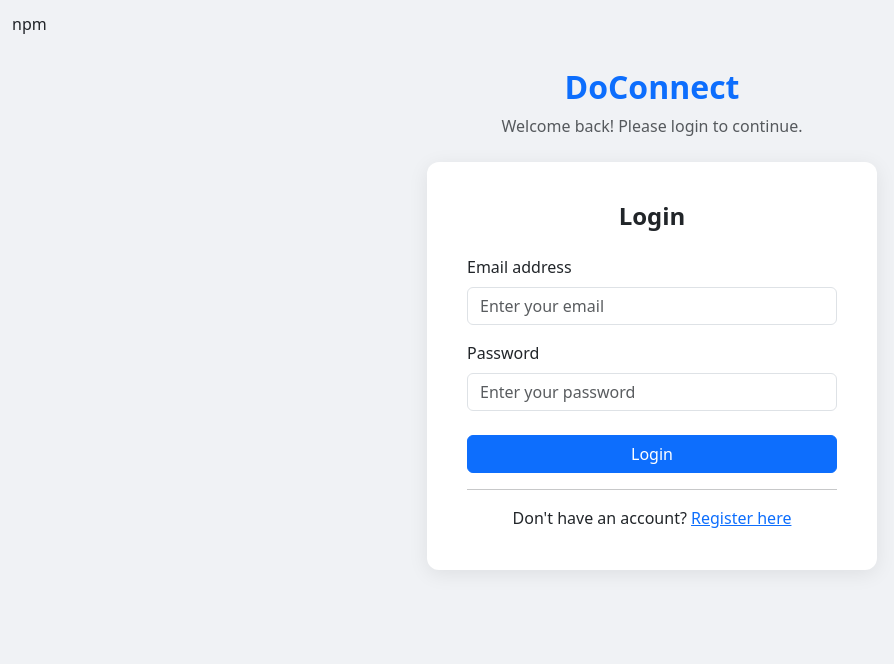
Test: Login Page › shows error for short password
The image size is (894, 664).
In the field with placeholder "Enter your email": (652, 306) [467, 287, 837, 325], type "test@test.com"
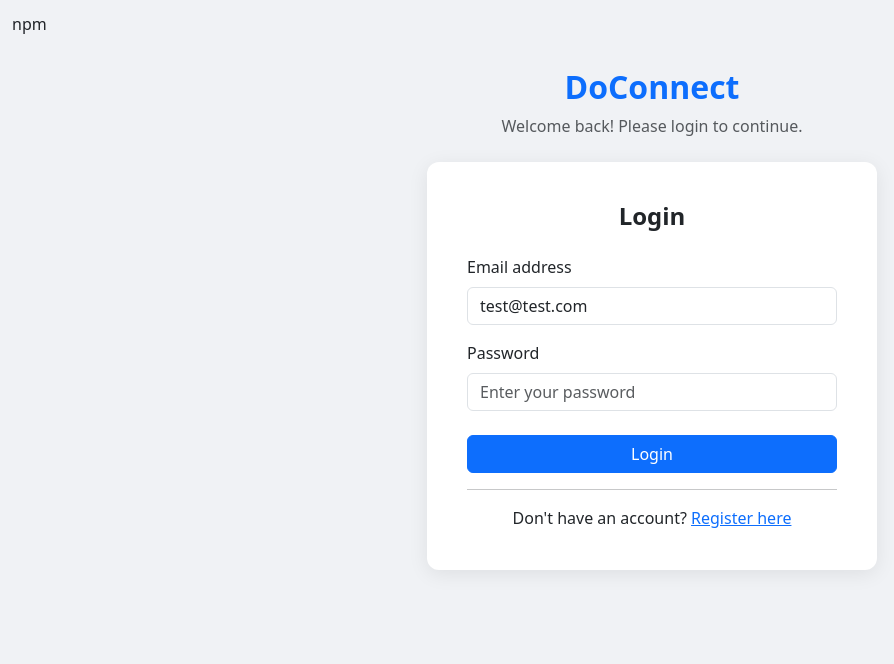
In the password field with placeholder "Enter your password": (652, 392) [467, 373, 837, 411], type "123"
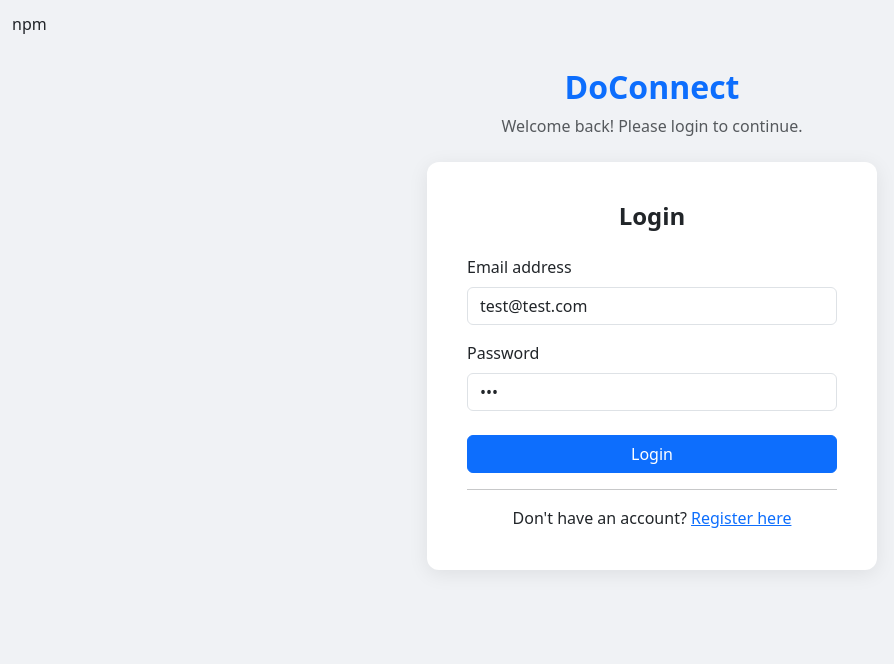
Click the button "Login": (652, 454) [467, 435, 837, 473]
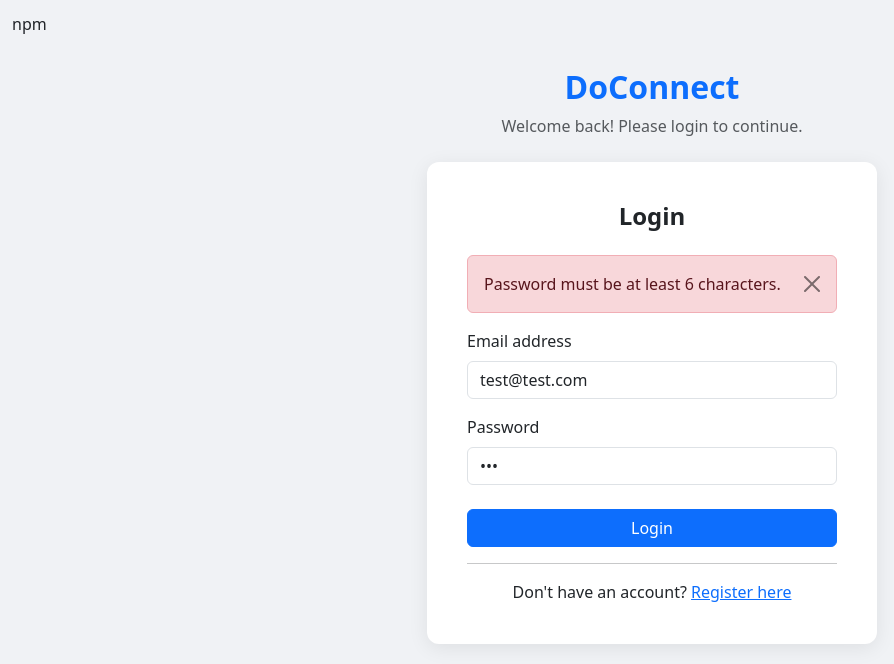
expect the text "Password must be at least 6 characters." is shown: met, box [467, 255, 837, 313]
